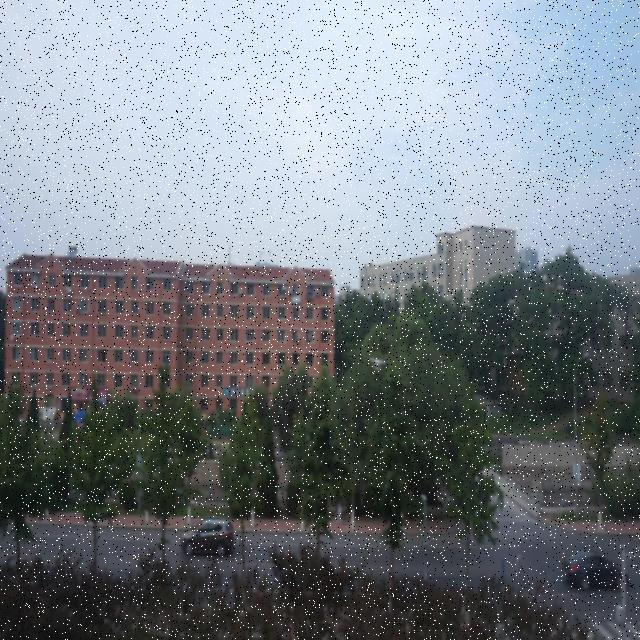UAV: (369, 358, 386, 370)
